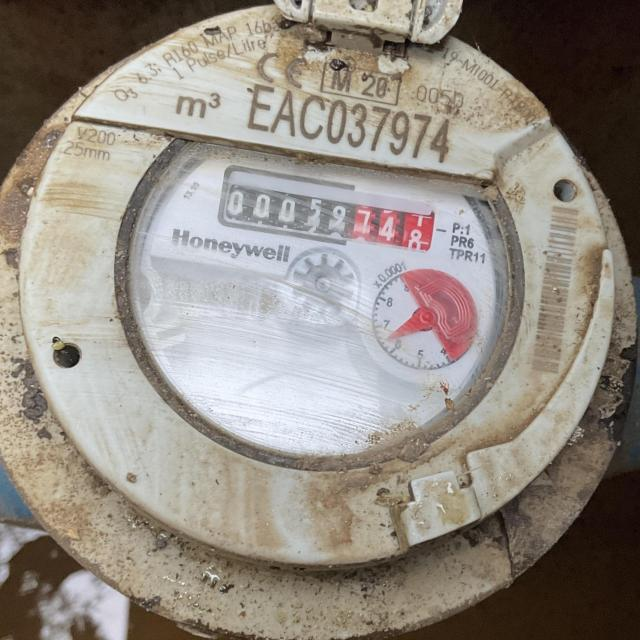gaz_meter: (126, 132, 524, 457)
indication: (218, 173, 436, 251)
